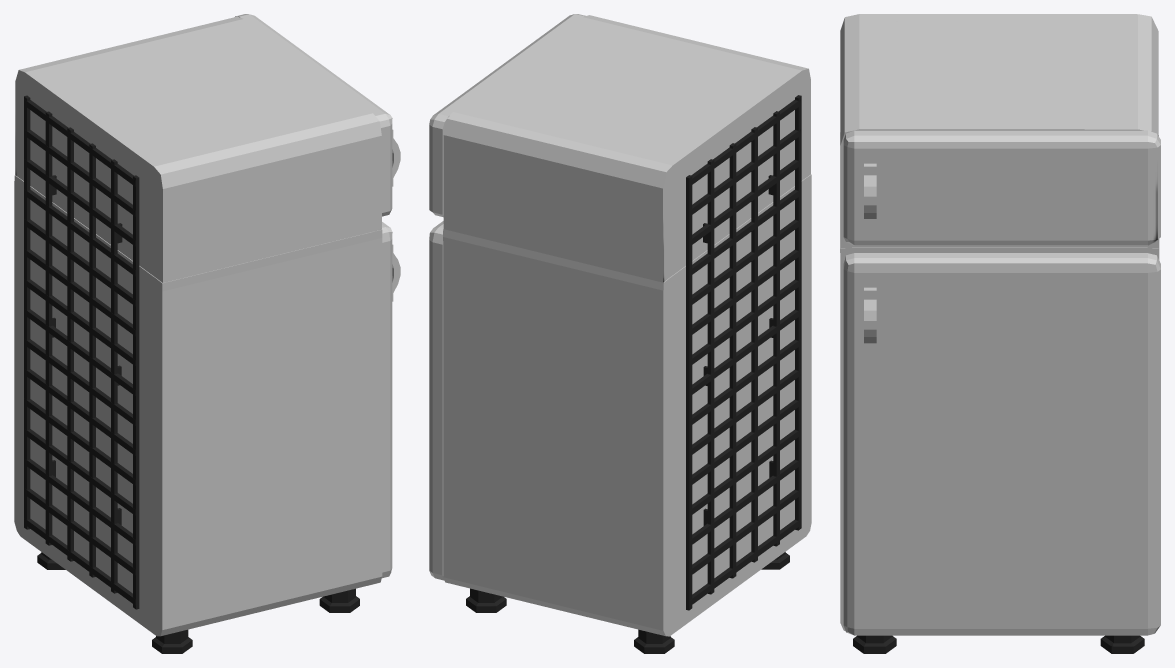
File: xolod.fbx
3 views of the same model, side by side, from view 1: azimuth 30°, elevation 25°; view 2: azimuth 150°, elevation 25°; view 3: azimuth 270°, elevation 25° (orthographic). The views are drawn at different scales.
Parts seen in each view (by area): view 1: xolod; view 2: xolod; view 3: xolod.
Boxes of the visible parts, box(x1,y1,x2,y2) form: xolod: box(14, 14, 400, 653); xolod: box(429, 14, 811, 653); xolod: box(840, 14, 1160, 653).
Size of the model in its own units: 382 by 696 by 382.
Materials: 1 (1 with a texture image).
